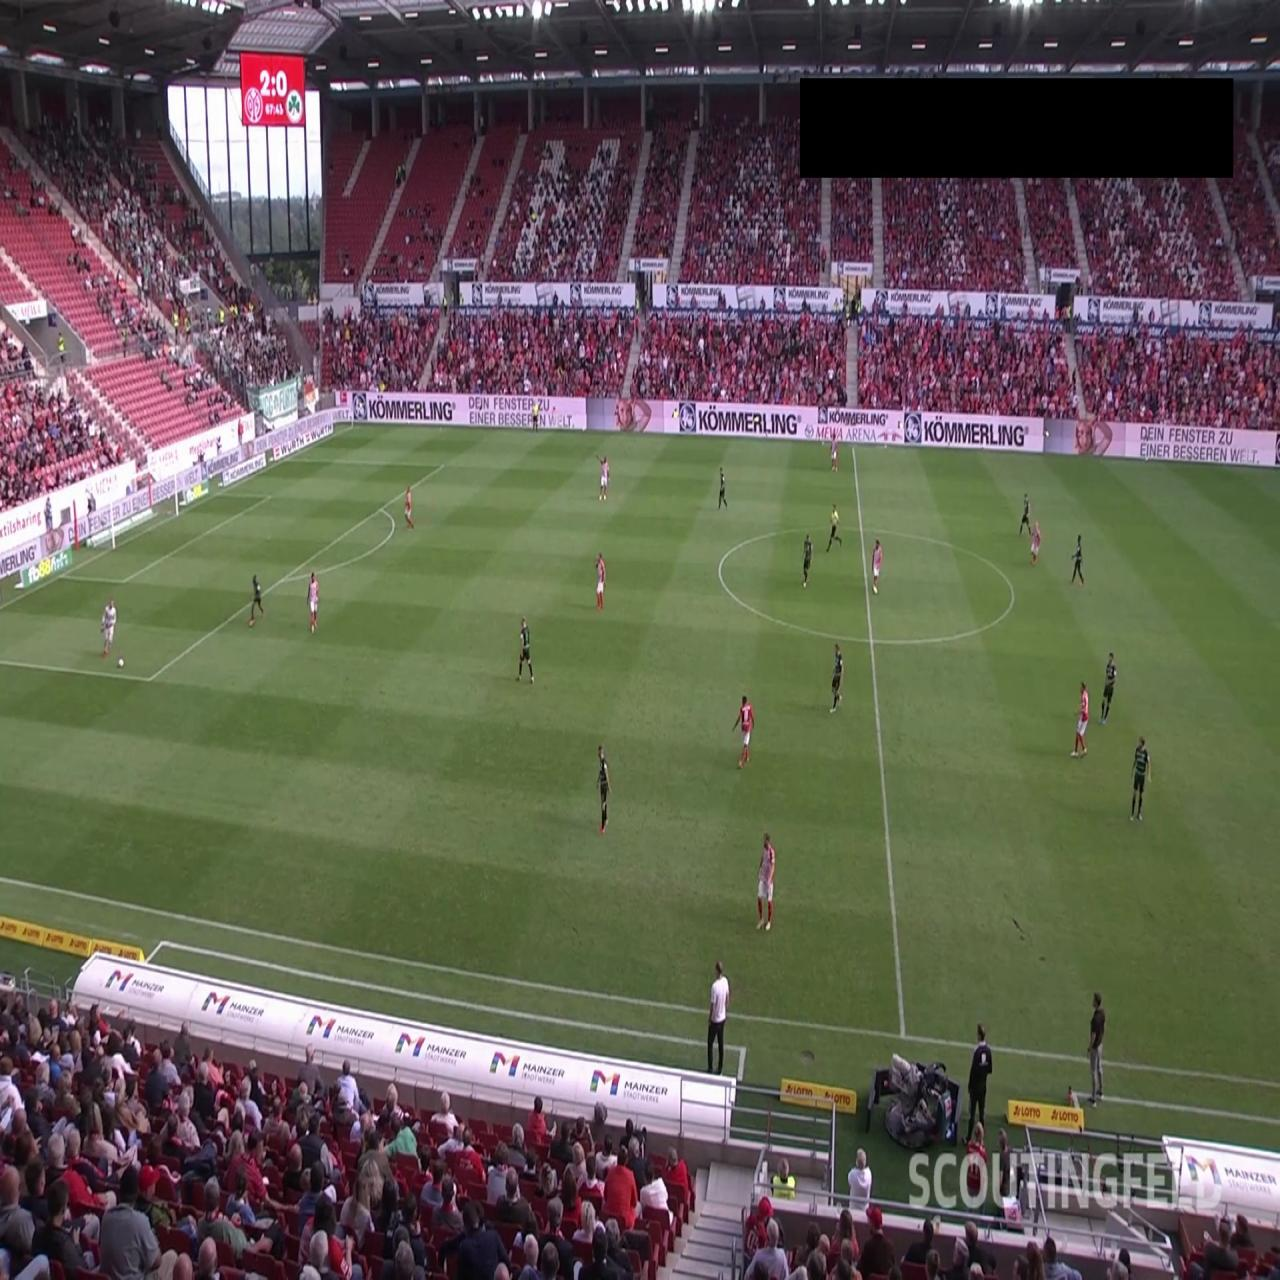ball: (118, 655, 125, 671)
goalkeeper: (100, 597, 116, 658)
player: (756, 832, 776, 932), (732, 693, 755, 768), (1130, 735, 1150, 821), (1072, 679, 1090, 759), (596, 743, 611, 836), (1099, 651, 1118, 724), (516, 615, 534, 684), (829, 642, 844, 712), (248, 572, 264, 626), (1070, 533, 1085, 587), (308, 571, 320, 634), (802, 531, 814, 589), (871, 538, 883, 595), (595, 551, 606, 610), (598, 455, 610, 501), (1030, 520, 1042, 566), (1019, 493, 1031, 538), (717, 466, 728, 511), (404, 485, 414, 530), (830, 434, 839, 472)
referee: (826, 502, 843, 554), (530, 399, 540, 435)
